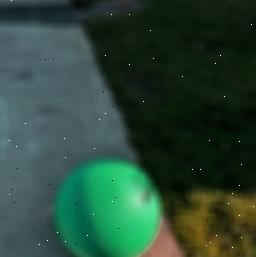algae: (53, 157, 165, 257)
